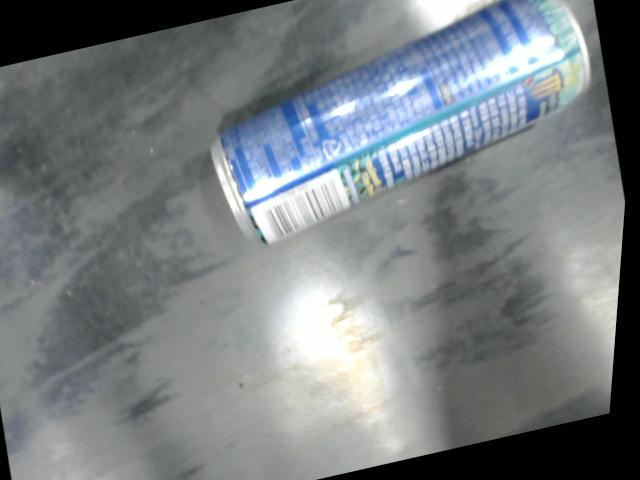can: (208, 0, 596, 247)
